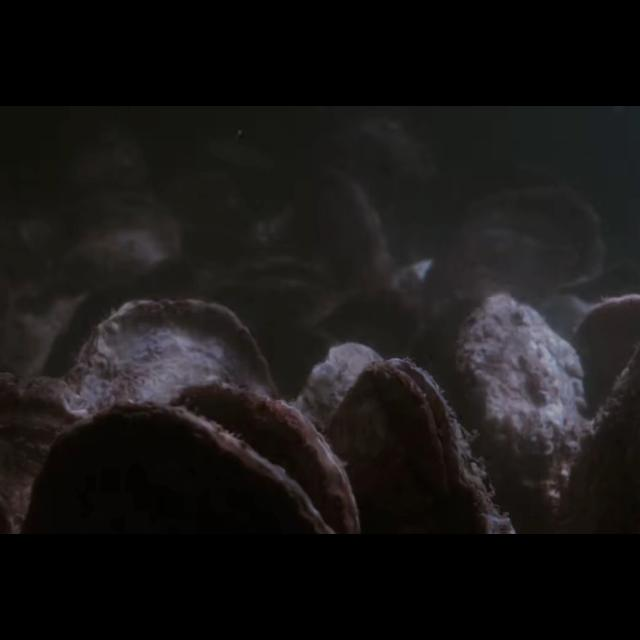Oyster-Closed: (62, 298, 282, 534), (22, 404, 334, 534), (440, 292, 592, 534), (168, 382, 360, 534), (418, 184, 606, 330), (294, 343, 384, 535), (0, 372, 100, 534), (302, 166, 402, 302), (58, 200, 182, 290), (570, 295, 640, 427)
Oyster-Open: (326, 358, 512, 534), (210, 252, 338, 321)
